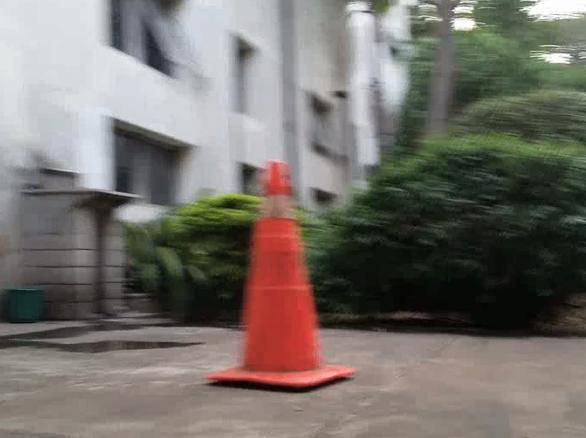0 cone: (204, 160, 353, 390)
